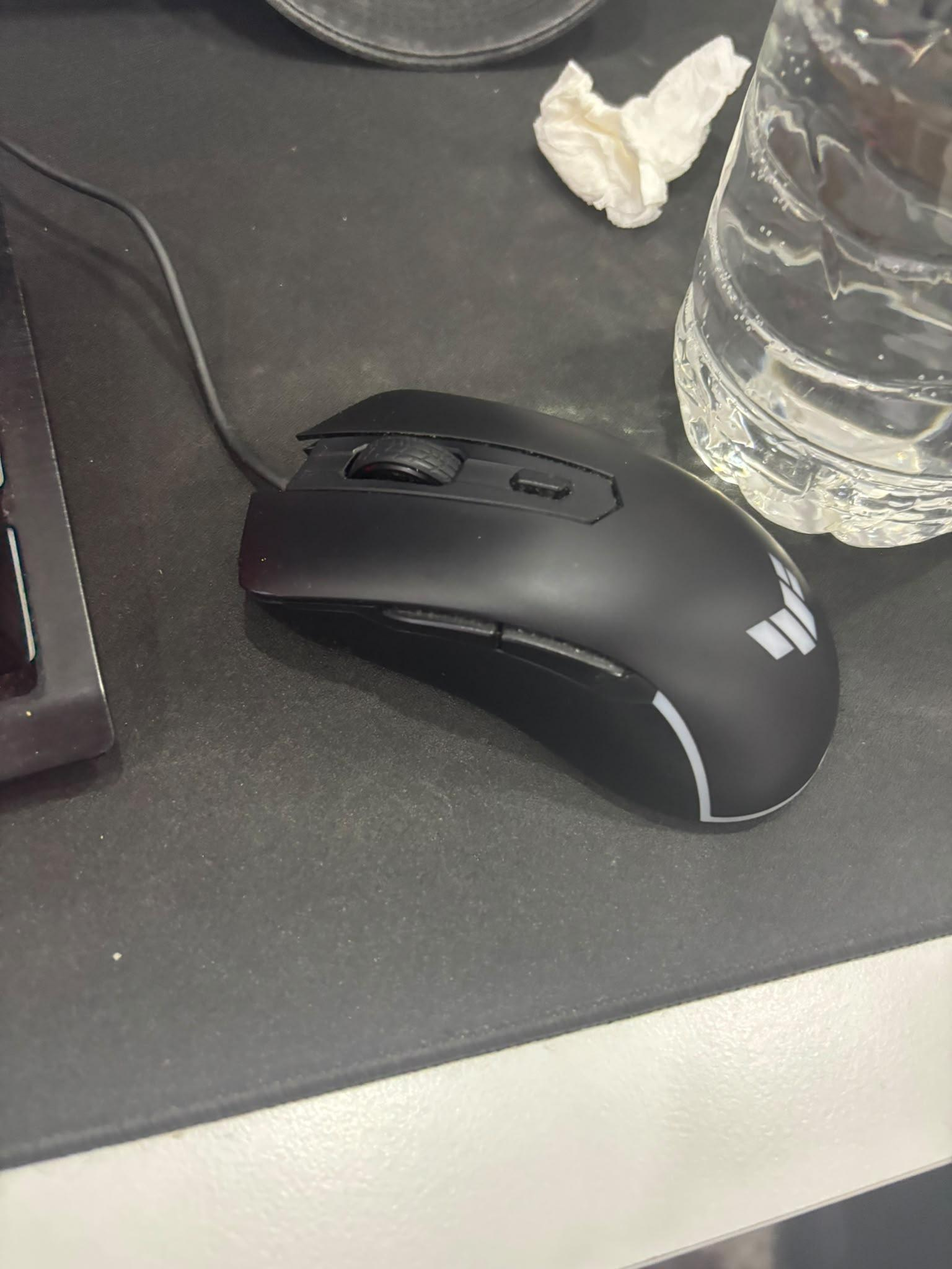cable: (0, 136, 288, 493)
keyboard: (0, 227, 115, 789)
mouse: (239, 389, 840, 829)
water bottel: (673, 0, 951, 550)
